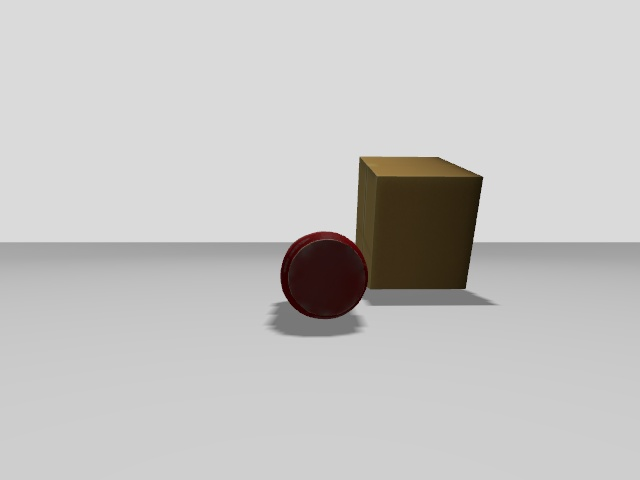canette: (281, 232, 368, 319)
carton: (356, 156, 481, 289)
